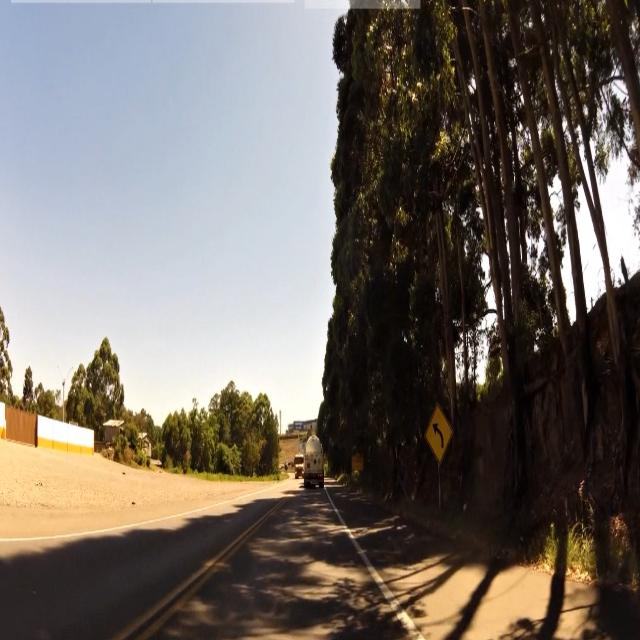A-2a: (422, 400, 452, 463)
